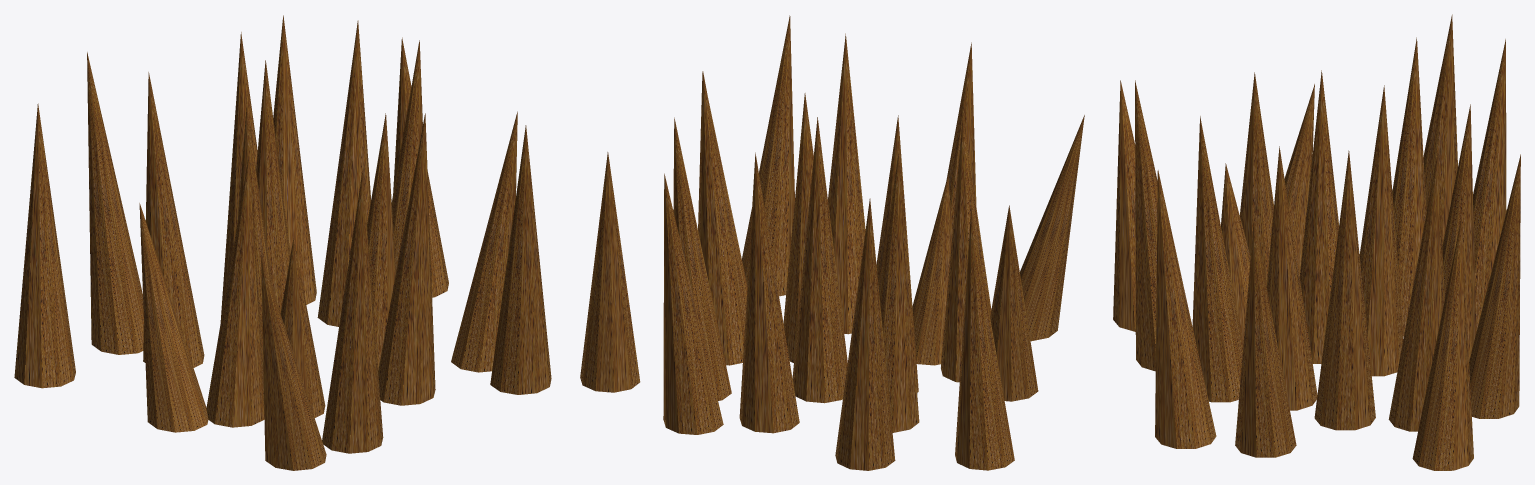
The model's file is death_pit.obj.
3 views of the same model, side by side, from view 1: azimuth 30°, elevation 25°; view 2: azimuth 150°, elevation 25°; view 3: azimuth 270°, elevation 25° (orthographic). The views are drawn at different scales.
Visible parts, largest first — view 1: Cone; view 2: Cone; view 3: Cone.
Boxes of the visible parts, bbox=[...] form: Cone: bbox=[14, 15, 551, 470]; Cone: bbox=[580, 15, 1084, 470]; Cone: bbox=[1113, 14, 1520, 470].
Bounding box in the file's own units: 15.81 × 10.31 × 13.27.
Materials: 1 (1 with a texture image).
